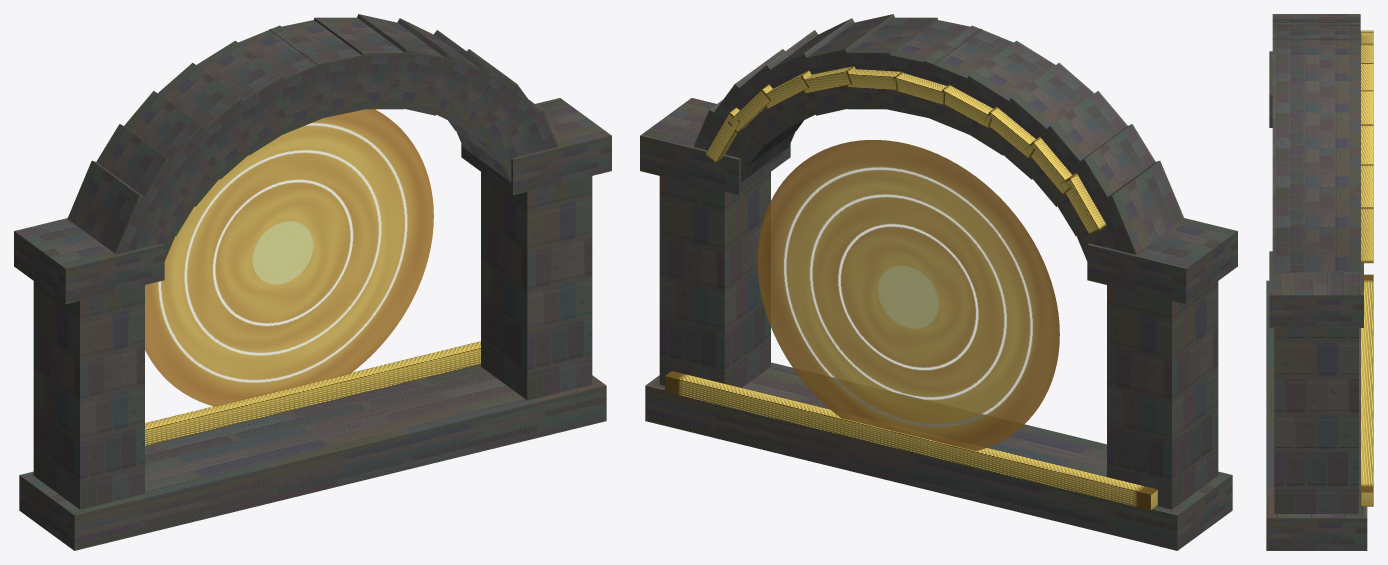
Rendered from portal_gate.obj.
3 renders of one model, left to right at view 1: azimuth 30°, elevation 25°; view 2: azimuth 150°, elevation 25°; view 3: azimuth 270°, elevation 25°, orthographic. The views are drawn at different scales.
Size of the model in its own units: 3.54 by 2.63 by 0.66.
Materials: 3 (3 with a texture image).
